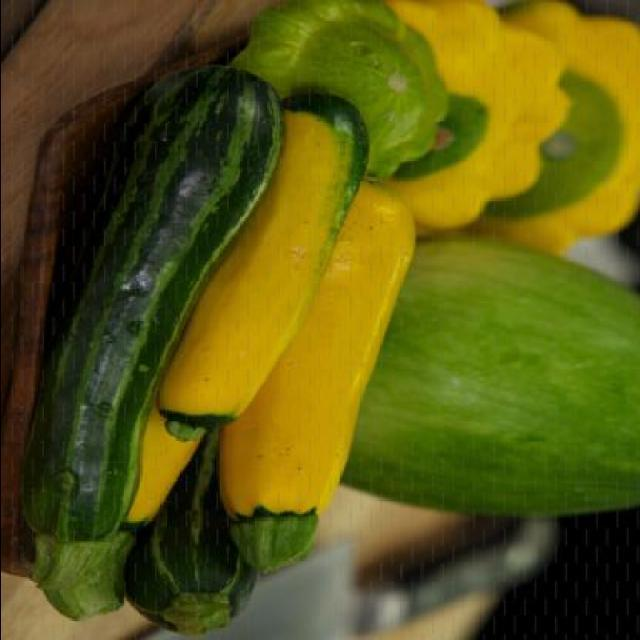Zucchini: (13, 55, 281, 602), (230, 172, 419, 564), (168, 83, 366, 455), (95, 412, 254, 640)
